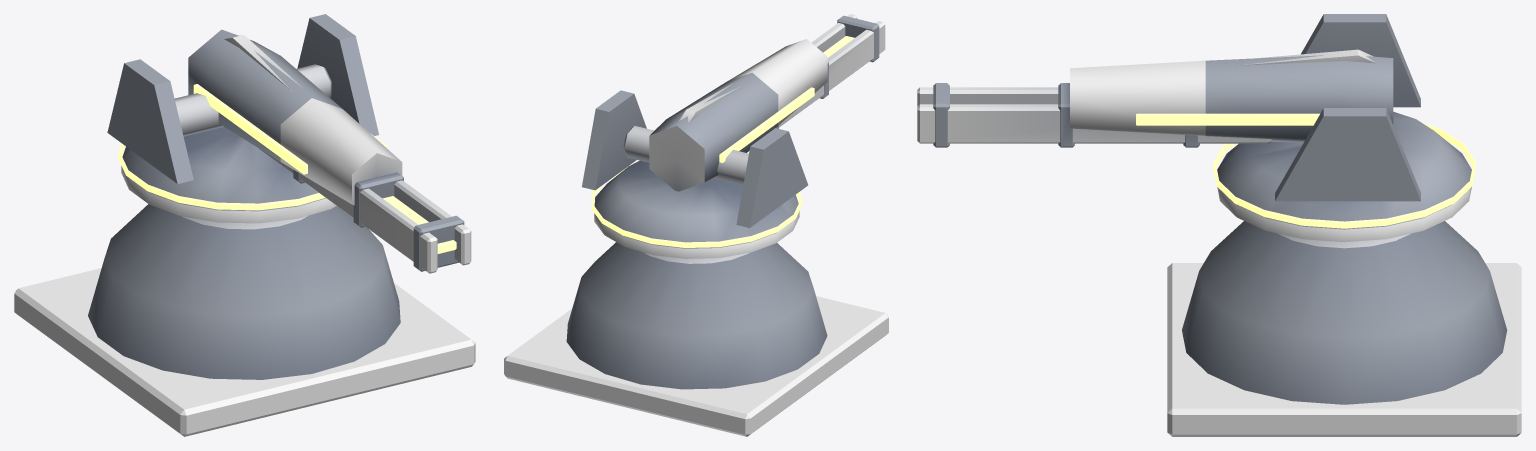
File: R4W_Basic_LOD1.fbx
The picture shows the model from 3 angles, left to right: view 1: azimuth 30°, elevation 25°; view 2: azimuth 150°, elevation 25°; view 3: azimuth 270°, elevation 25°; orthographic projection. The views are drawn at different scales.
Visible parts, largest first — view 1: R4W_Basic_LOD1; view 2: R4W_Basic_LOD1; view 3: R4W_Basic_LOD1.
Part boxes in pixels (x1=…): R4W_Basic_LOD1: x1=14, y1=14, x2=475, y2=436; R4W_Basic_LOD1: x1=504, y1=14, x2=888, y2=436; R4W_Basic_LOD1: x1=917, y1=14, x2=1521, y2=436.
Bounding box in the file's own units: 0.51 × 0.495 × 0.87.
